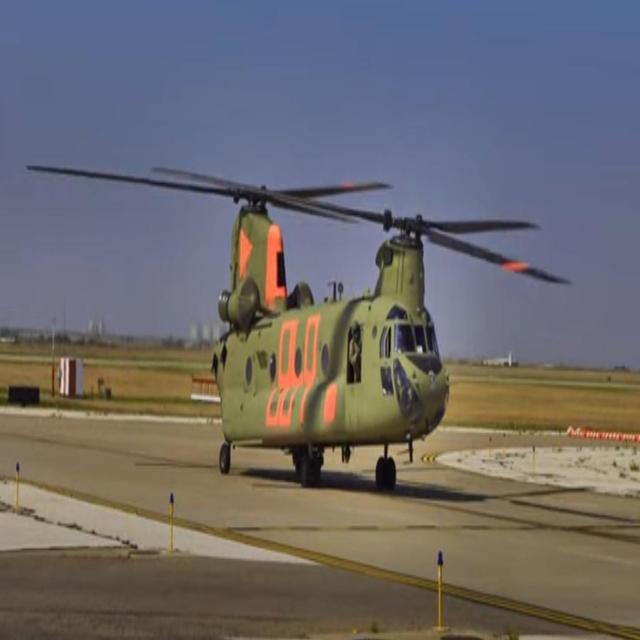Helicopter: (173, 180, 469, 490)
